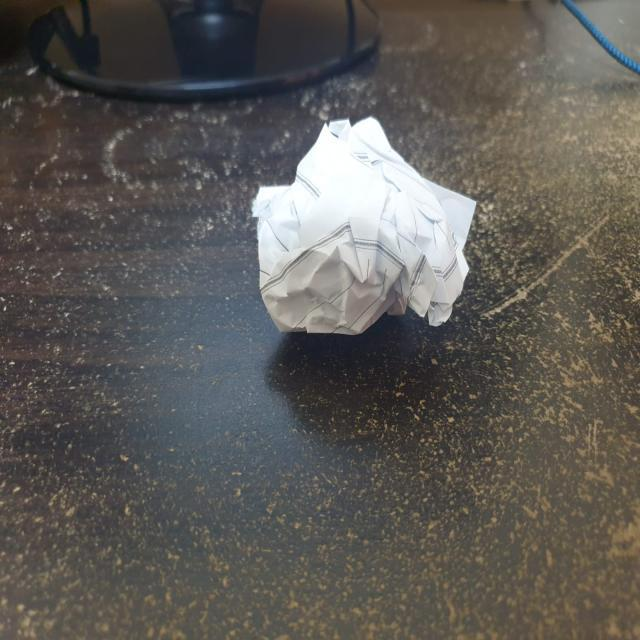Paper: (248, 118, 475, 350)
